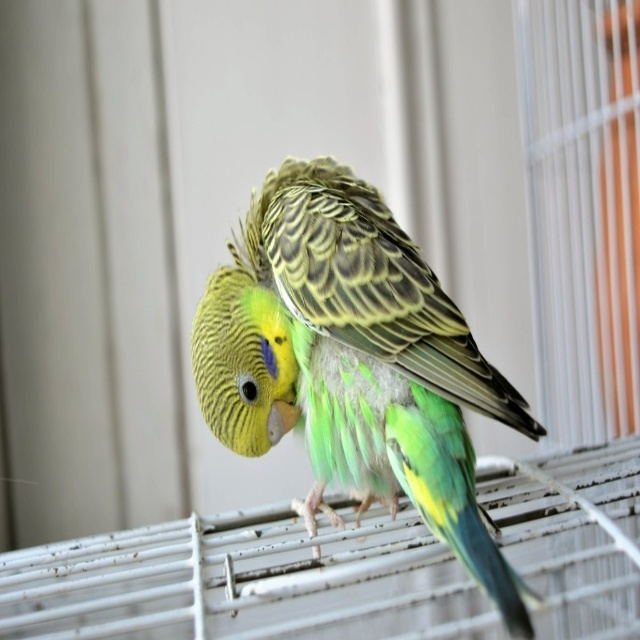Parrot: (187, 151, 549, 639)
